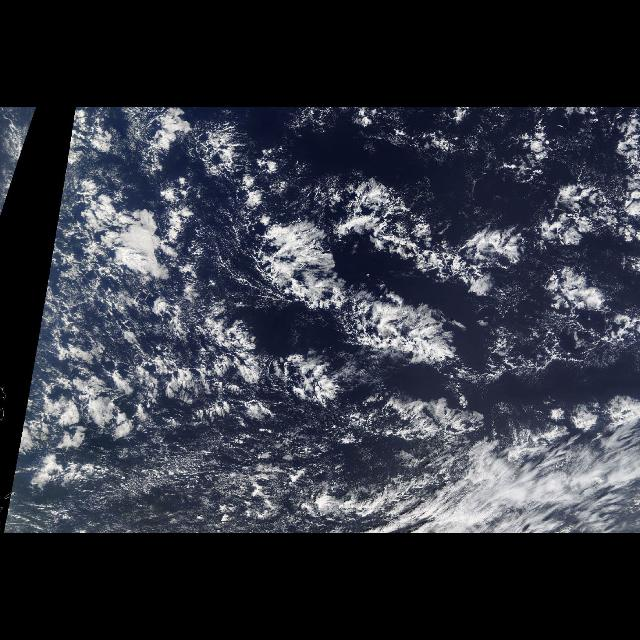Fish: (192, 144, 518, 450)
Gravel: (8, 109, 264, 528), (8, 109, 38, 195)
Sugar: (9, 111, 285, 525), (9, 112, 37, 195)
